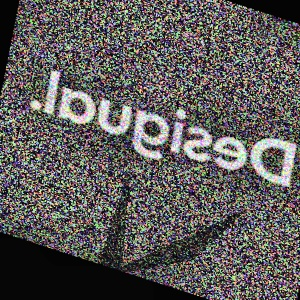desigual: (286, 84, 300, 198)
